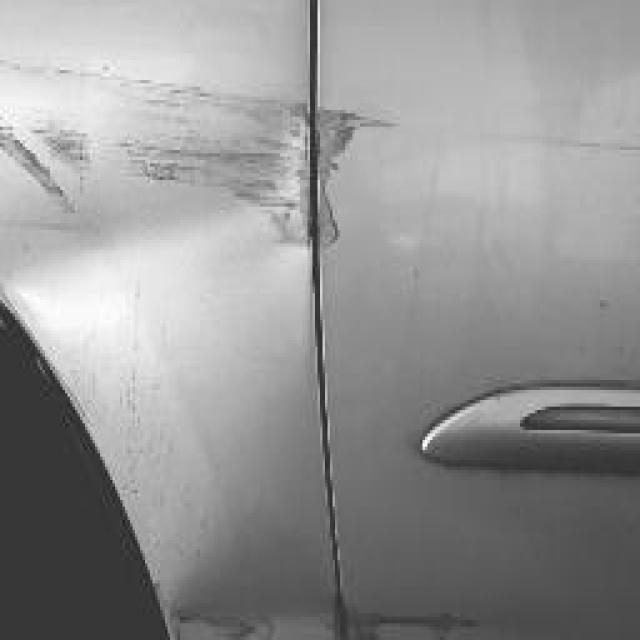Door: (318, 63, 375, 327)
Fender: (0, 43, 310, 463)
